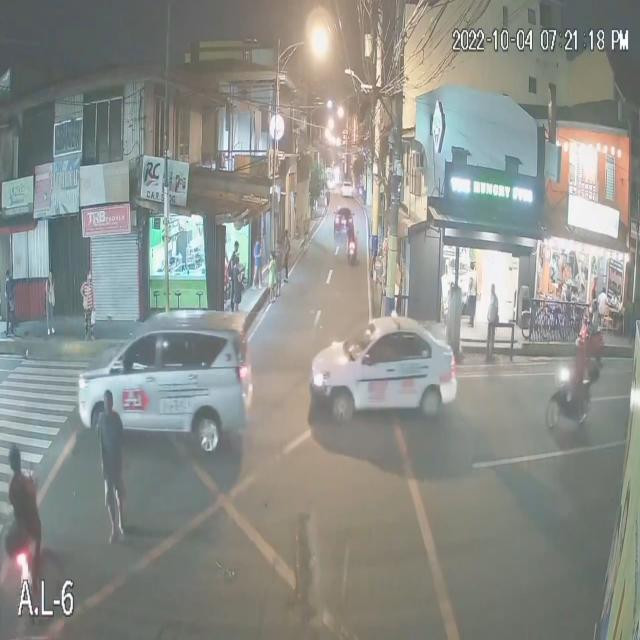Full-Faced: (570, 334, 589, 369)
